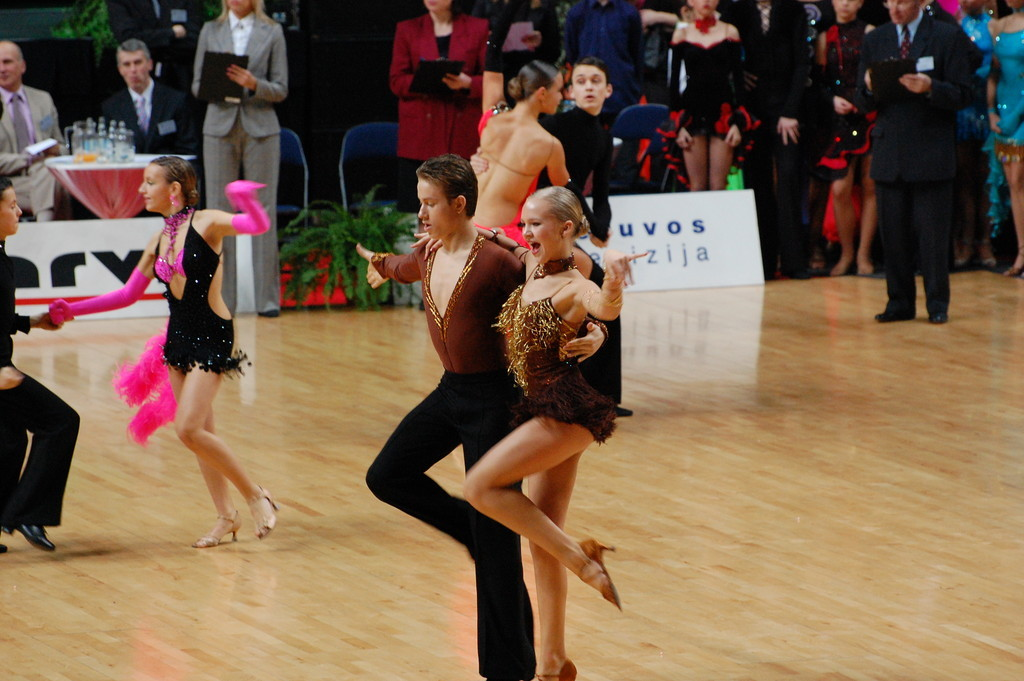Person: (391, 0, 1024, 277), (355, 150, 610, 680), (463, 185, 648, 680), (46, 156, 269, 548), (470, 54, 633, 418), (855, 0, 980, 322), (0, 175, 82, 556), (191, 0, 288, 322), (0, 38, 71, 228), (104, 40, 196, 156), (107, 0, 205, 98)
